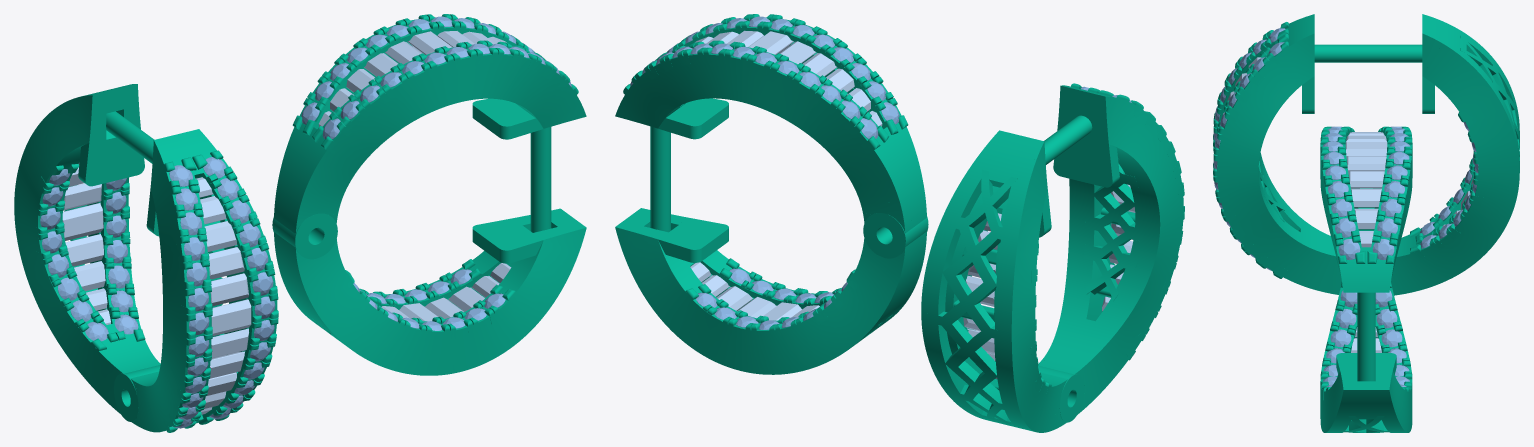
3 renders of one model, left to right at view 1: azimuth 30°, elevation 25°; view 2: azimuth 150°, elevation 25°; view 3: azimuth 270°, elevation 25°, orthographic. The views are drawn at different scales.
Visible parts, largest first — view 1: BALI -577.3dm, Diamond_Baguette Straight (×11); view 2: BALI -577.3dm, Diamond_Baguette Straight; view 3: BALI -577.3dm, Diamond_Baguette Straight (×5), Diamond_Round (×4).
Boxes of the visible parts, <box> form: BALI -577.3dm: <box>14,14,586,432</box>; Diamond_Baguette Straight (×11): <box>62,31,452,378</box>; BALI -577.3dm: <box>615,14,1184,432</box>; Diamond_Baguette Straight: <box>749,31,793,54</box>; BALI -577.3dm: <box>1213,14,1519,432</box>; Diamond_Baguette Straight (×5): <box>1345,142,1387,229</box>; Diamond_Round (×4): <box>1335,239,1397,328</box>.
Bounding box in the file's own units: 2.96 × 1.9 × 1.9.
